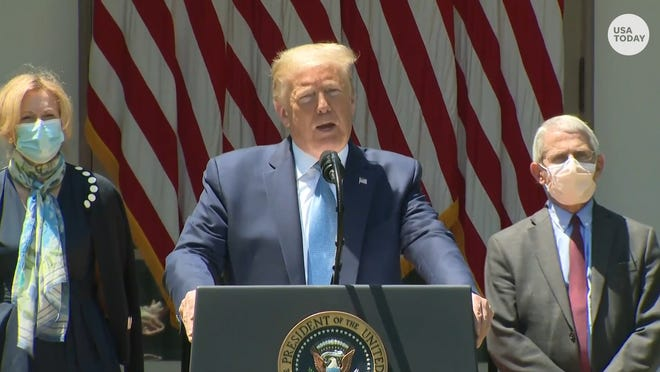with_mask: (545, 141, 597, 201), (20, 103, 62, 161)
without_mask: (293, 77, 352, 149)
